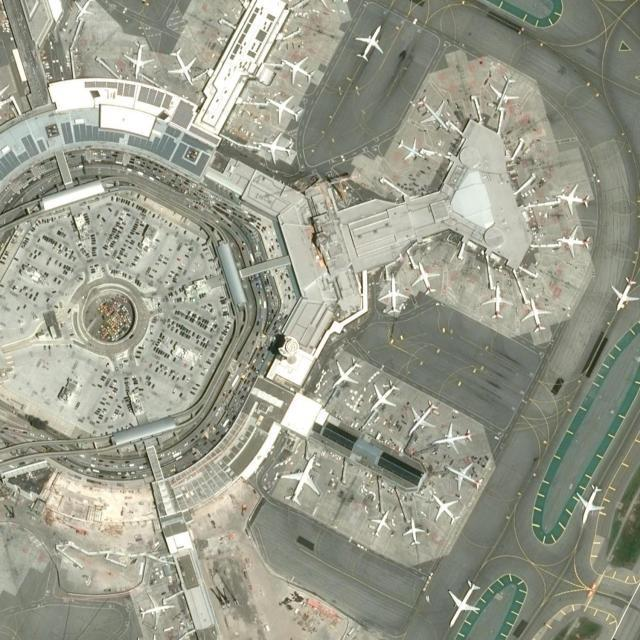Aircraft: (278, 454, 320, 506), (447, 580, 480, 629), (432, 422, 472, 455), (138, 595, 174, 629), (377, 276, 409, 314), (123, 40, 155, 78), (575, 483, 605, 523), (167, 46, 197, 86), (258, 131, 294, 164), (416, 95, 448, 131), (446, 461, 484, 491), (489, 74, 519, 112), (266, 94, 304, 124), (353, 25, 383, 63), (481, 284, 513, 319), (556, 225, 590, 257), (555, 183, 589, 215), (407, 399, 437, 435), (520, 298, 551, 332), (331, 357, 361, 390), (281, 55, 315, 84), (430, 494, 460, 526), (369, 378, 399, 410), (610, 277, 638, 311), (411, 262, 439, 294), (397, 138, 426, 160), (369, 510, 391, 538), (402, 517, 424, 545), (73, 0, 96, 22), (0, 73, 9, 111)
